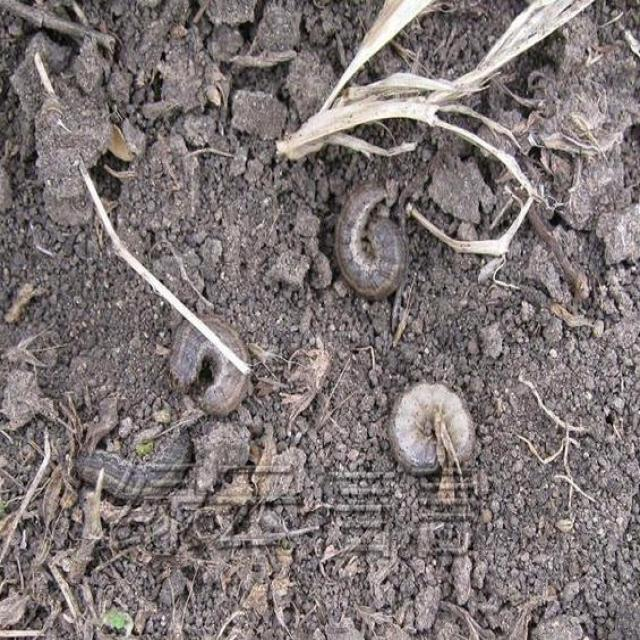black cutworm: (387, 375, 494, 476), (169, 311, 262, 417), (336, 185, 409, 306), (70, 442, 206, 493)
